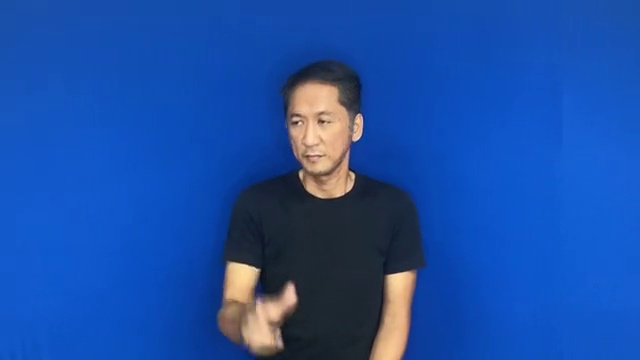chicken: (232, 269, 315, 360)
